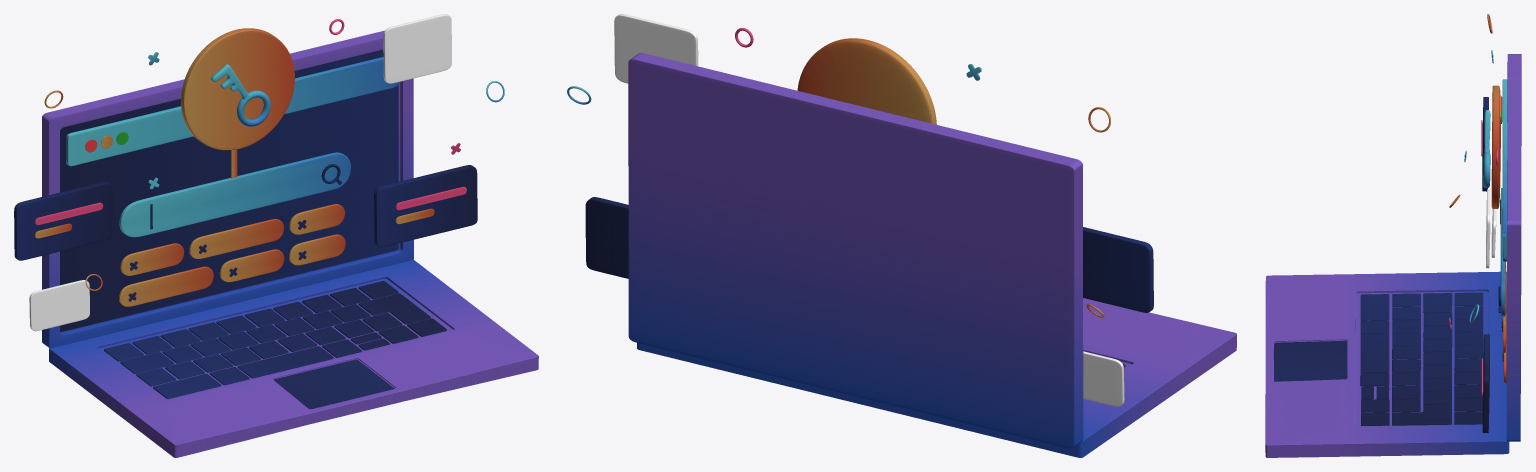
The model's file is keyword-3d-animated-icon-196293047974.glb.
The picture shows the model from 3 angles, left to right: view 1: azimuth 30°, elevation 25°; view 2: azimuth 150°, elevation 25°; view 3: azimuth 270°, elevation 25°; orthographic projection. The views are drawn at different scales.
Visible parts, largest first — view 1: Cube.015, Cube.016, Cube.017, Key Base.001, Search Bar.002, Cube.001, Cube.004, Cube.028, Cube.005, Cube.006, Cube.021, Cube.009 (+7 smaller); view 2: Cube.015, Cube.016, Key Base.001, Cube.028, Cube.005, Cube.004, Cube.006; view 3: Cube.016, Cube.017, Cube.015, Key Base.001, Cube.001, Cube.004, Key Base, Search Bar.002, Cube.005, Cube.028.
Boxes of the visible parts, x1,y1,x2,y2 form: Cube.015: (42,30,413,348); Cube.016: (49,259,538,457); Cube.017: (104,281,446,398); Key Base.001: (181,28,294,150); Search Bar.002: (119,152,350,237); Cube.001: (66,57,399,166); Cube.004: (374,165,477,247); Cube.028: (14,181,113,260); Cube.005: (383,14,451,83); Cube.006: (29,280,89,331); Cube.021: (119,266,213,306); Cube.009: (189,219,283,258); Cube.015: (628,53,1083,448); Cube.016: (637,298,1236,457); Key Base.001: (797,38,936,124); Cube.028: (1083,227,1153,312); Cube.005: (614,14,698,83); Cube.004: (585,197,628,278); Cube.006: (1083,351,1124,406); Cube.016: (1265,271,1509,457); Cube.017: (1360,292,1483,425); Cube.015: (1506,54,1521,441); Key Base.001: (1491,85,1500,208); Cube.001: (1502,79,1507,261); Cube.004: (1482,334,1489,432); Key Base: (1483,110,1490,188); Search Bar.002: (1500,188,1505,316); Cube.005: (1486,189,1490,268); Cube.028: (1482,97,1488,191).
Size of the model in its own units: 7.09 by 4.14 by 3.41.
Materials: 12 (7 with a texture image).
